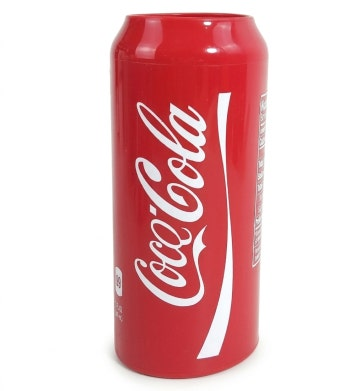paper: (108, 12, 261, 379)
